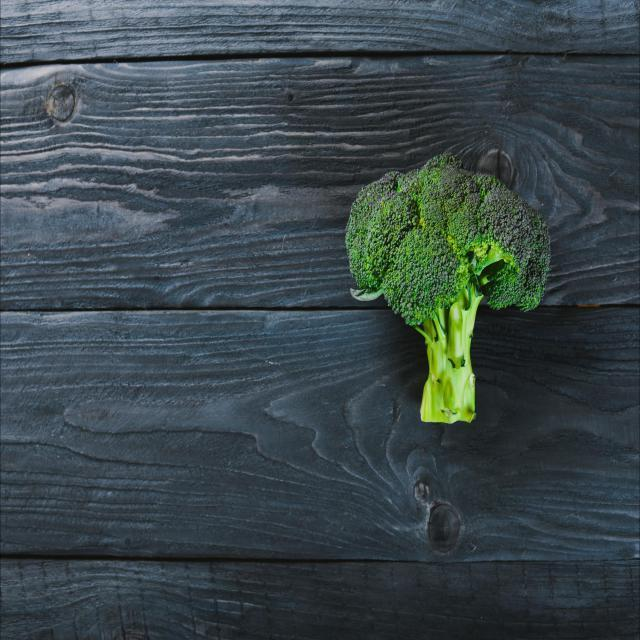broccoli: (338, 144, 554, 429)
